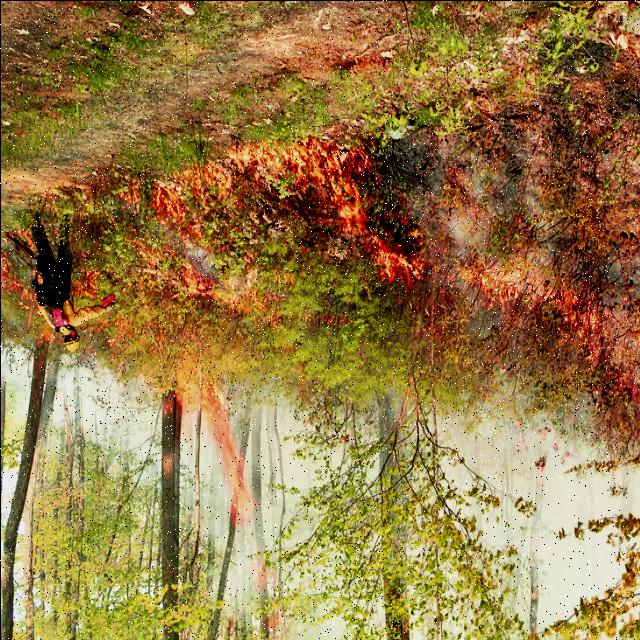api: (192, 374, 252, 526), (314, 138, 366, 236), (155, 161, 231, 222), (228, 139, 320, 173), (371, 247, 427, 288), (188, 287, 273, 314), (246, 555, 274, 594)
